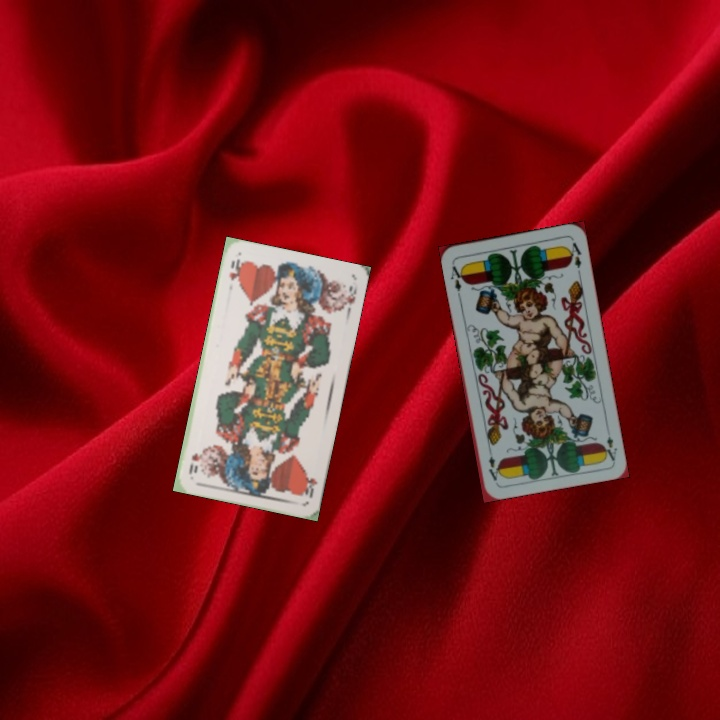EA: (447, 262, 467, 299), (599, 432, 619, 463)
HO: (298, 468, 320, 500), (225, 255, 244, 284)
